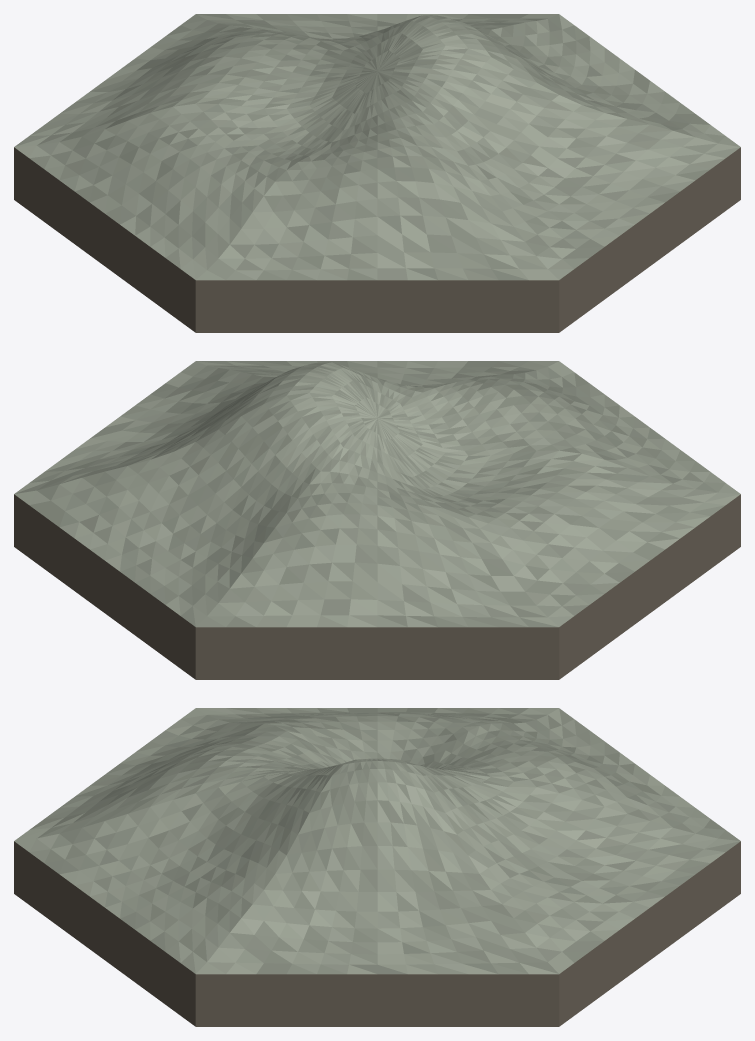
Rendered from TERRAIN_TUNDRA_HILLS_v00.fbx.
3 renders of one model, top to bottom at view 1: azimuth 30°, elevation 25°; view 2: azimuth 150°, elevation 25°; view 3: azimuth 270°, elevation 25°, orthographic.
Visible parts, largest first — view 1: TERRAIN_TUNDRA_HILLS_v00; view 2: TERRAIN_TUNDRA_HILLS_v00; view 3: TERRAIN_TUNDRA_HILLS_v00.
Part boxes in pixels (x1=…): TERRAIN_TUNDRA_HILLS_v00: x1=14, y1=14, x2=740, y2=332; TERRAIN_TUNDRA_HILLS_v00: x1=14, y1=361, x2=740, y2=679; TERRAIN_TUNDRA_HILLS_v00: x1=14, y1=708, x2=740, y2=1026.
Size of the model in its own units: 173 by 48.04 by 200.
